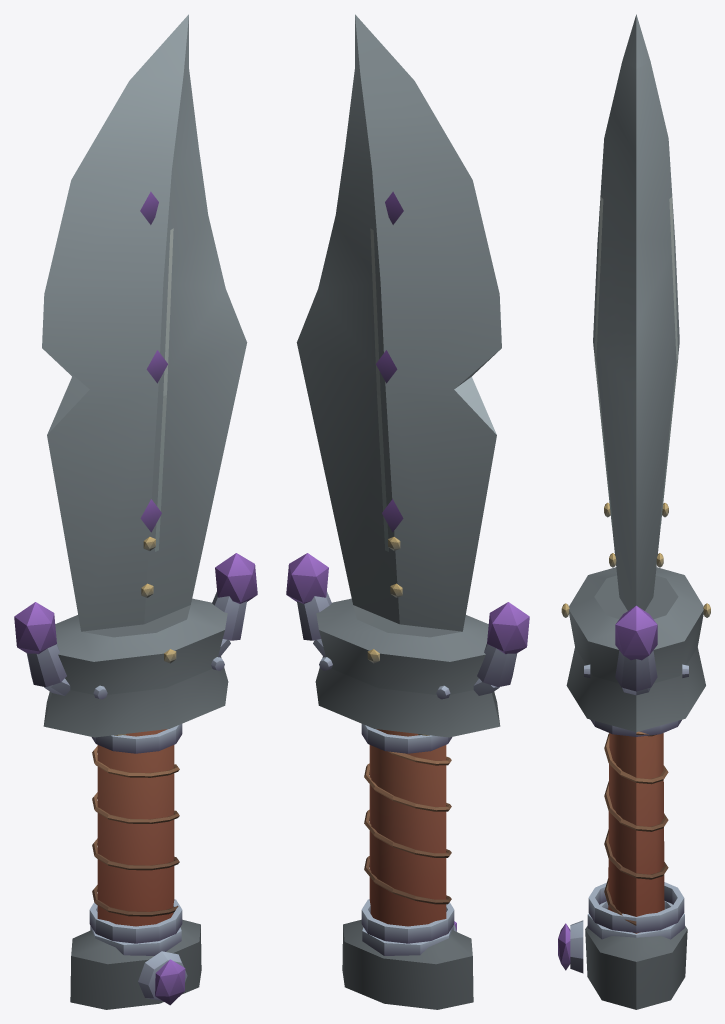
File: daga_secundaria_runica_t3.glb
3 renders of one model, left to right at view 1: azimuth 30°, elevation 25°; view 2: azimuth 150°, elevation 25°; view 3: azimuth 270°, elevation 25°, orthographic. The views are drawn at different scales.
Visible parts, largest first — view 1: daga_secundaria_runica_t3_finished; view 2: daga_secundaria_runica_t3_finished; view 3: daga_secundaria_runica_t3_finished.
Boxes of the visible parts, box(x1,y1,x2,y2) form: daga_secundaria_runica_t3_finished: box(14, 14, 257, 1009); daga_secundaria_runica_t3_finished: box(286, 14, 529, 1009); daga_secundaria_runica_t3_finished: box(558, 14, 710, 1009).
Bounding box in the file's own units: 0.3083 × 1.21 × 0.1663.
Materials: 2 (2 with a texture image).
